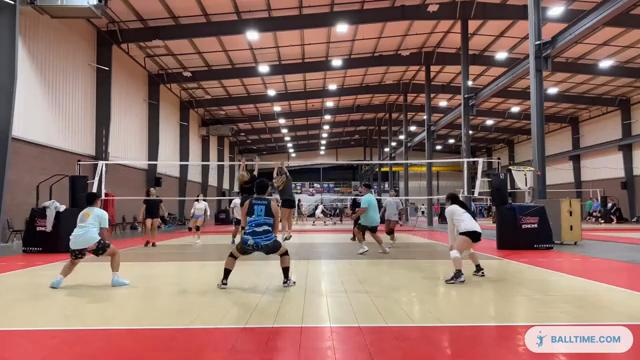Block: (269, 158, 297, 243), (232, 155, 258, 233)
Player: (218, 179, 295, 288), (50, 192, 128, 288), (445, 193, 484, 283), (352, 183, 388, 253), (140, 188, 166, 246), (381, 189, 402, 244), (188, 194, 209, 243), (230, 198, 241, 244), (350, 192, 360, 215)
